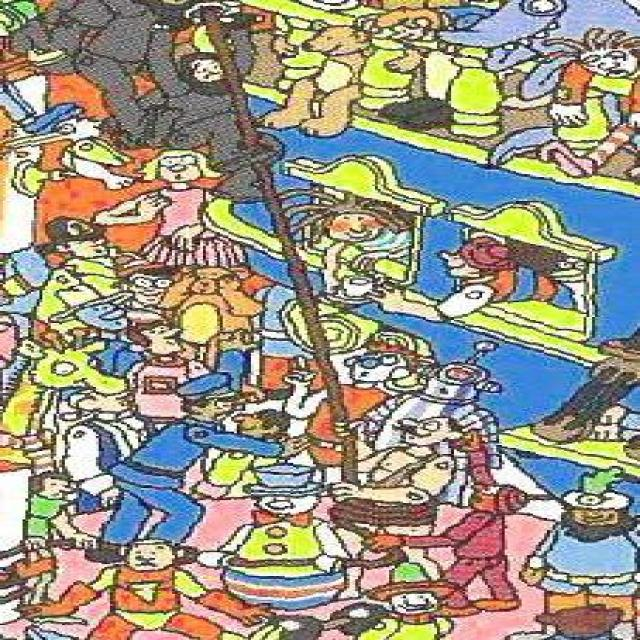waldo: (110, 253, 183, 307)
